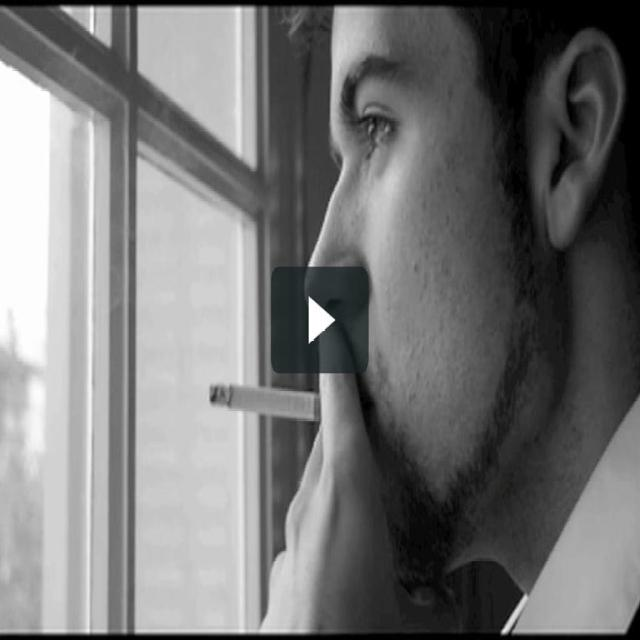smoking: (206, 2, 628, 434)
